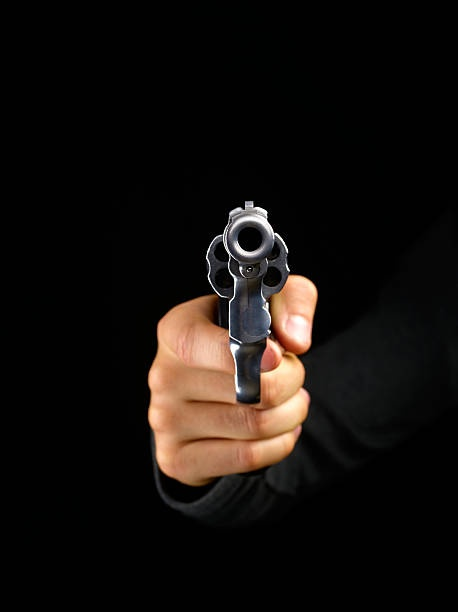gun: (144, 190, 318, 480)
